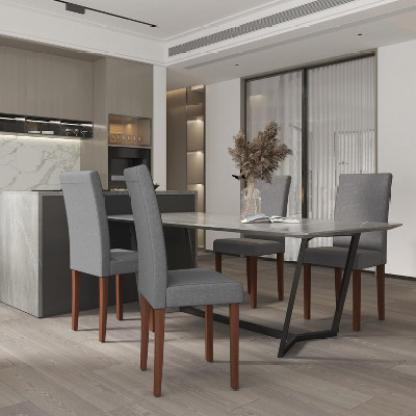chair: (125, 163, 247, 400), (298, 172, 403, 329), (57, 163, 133, 341), (213, 169, 294, 306)
table: (94, 207, 408, 359), (0, 178, 208, 317)
